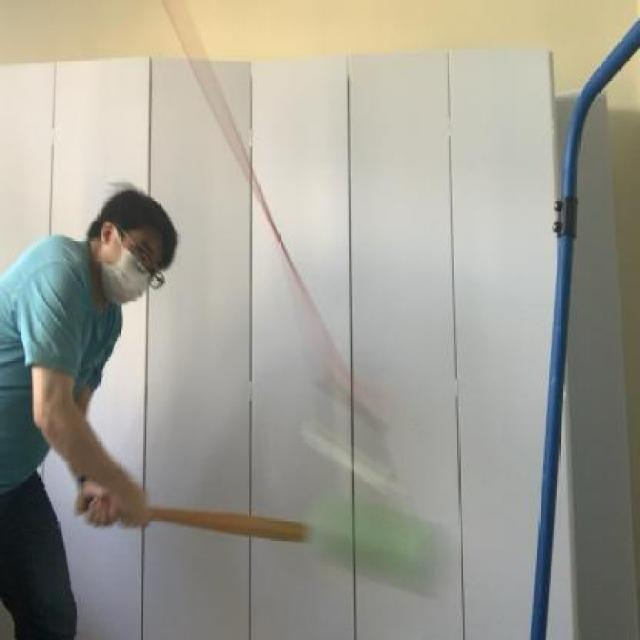baseball: (302, 478, 466, 612)
